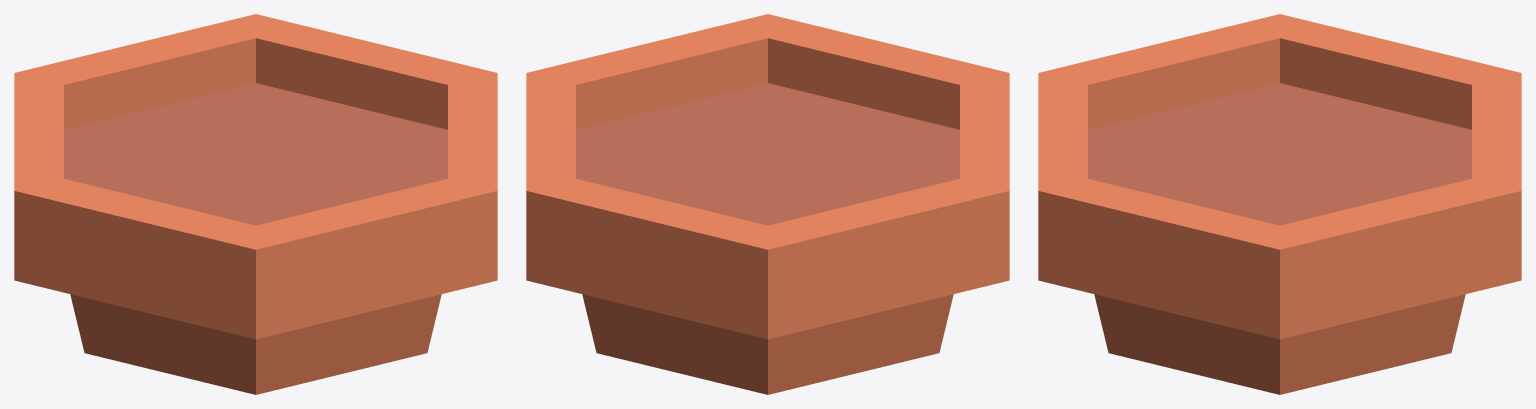
File: pot-large.glb
3 views of the same model, side by side, from view 1: azimuth 30°, elevation 25°; view 2: azimuth 150°, elevation 25°; view 3: azimuth 270°, elevation 25° (orthographic).
Visible parts, largest first — view 1: pot_large; view 2: pot_large; view 3: pot_large.
Boxes of the visible parts, x1,y1,x2,y2 form: pot_large: [14, 14, 497, 394]; pot_large: [526, 14, 1009, 394]; pot_large: [1038, 14, 1521, 394].
Size of the model in its own units: 0.5636 by 0.2 by 0.4881.
